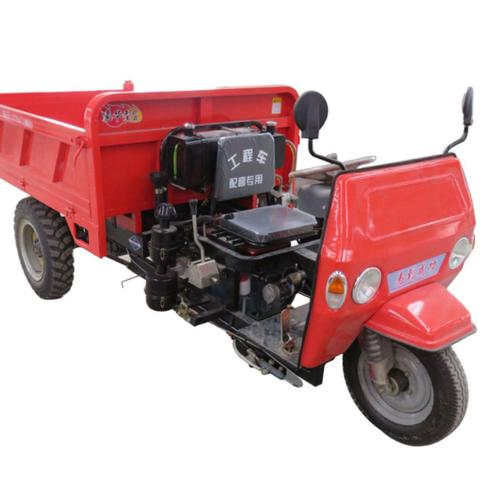empty: (3, 48, 473, 450)
